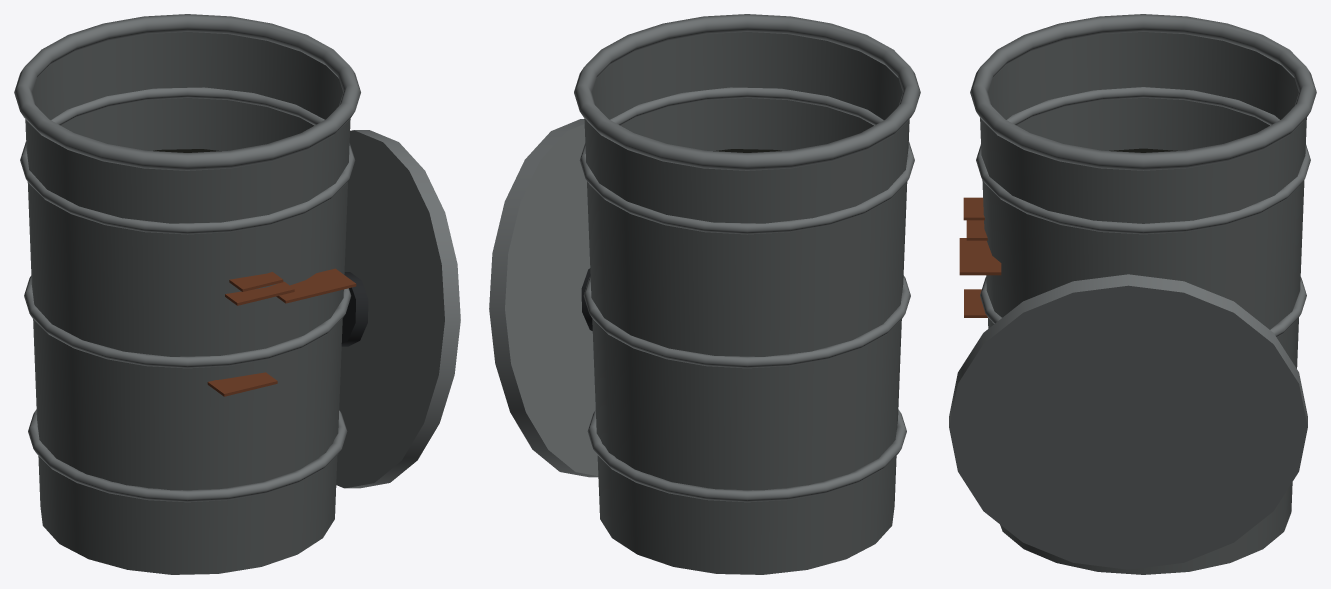
Rendered from waste-bin.glb.
The picture shows the model from 3 angles, left to right: view 1: azimuth 30°, elevation 25°; view 2: azimuth 150°, elevation 25°; view 3: azimuth 270°, elevation 25°; orthographic projection.
Parts seen in each view (by area): view 1: binTin, lid, tin, rust; view 2: binTin, tin, lid; view 3: lid, binTin, tin, rust.
Part boxes in pixels (box(x1,y1,x2,y2)): binTin: box(25, 32, 350, 574); lid: box(336, 130, 460, 488); tin: box(14, 14, 360, 502); rust: box(207, 268, 356, 396); binTin: box(584, 32, 909, 574); tin: box(574, 14, 920, 502); lid: box(489, 119, 598, 477); lid: box(949, 274, 1307, 569); binTin: box(980, 32, 1306, 574); tin: box(970, 14, 1316, 337); rust: box(959, 197, 1001, 317).
Size of the model in its own units: 0.5468 by 0.6304 by 0.492.
